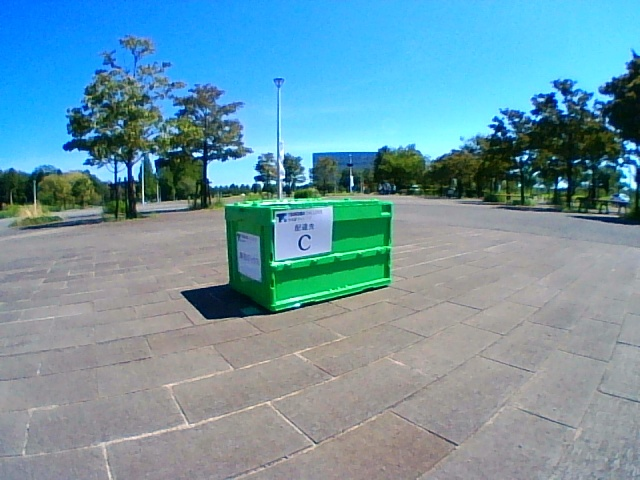green_box: (225, 198, 393, 310)
tag_c: (277, 212, 330, 253)
